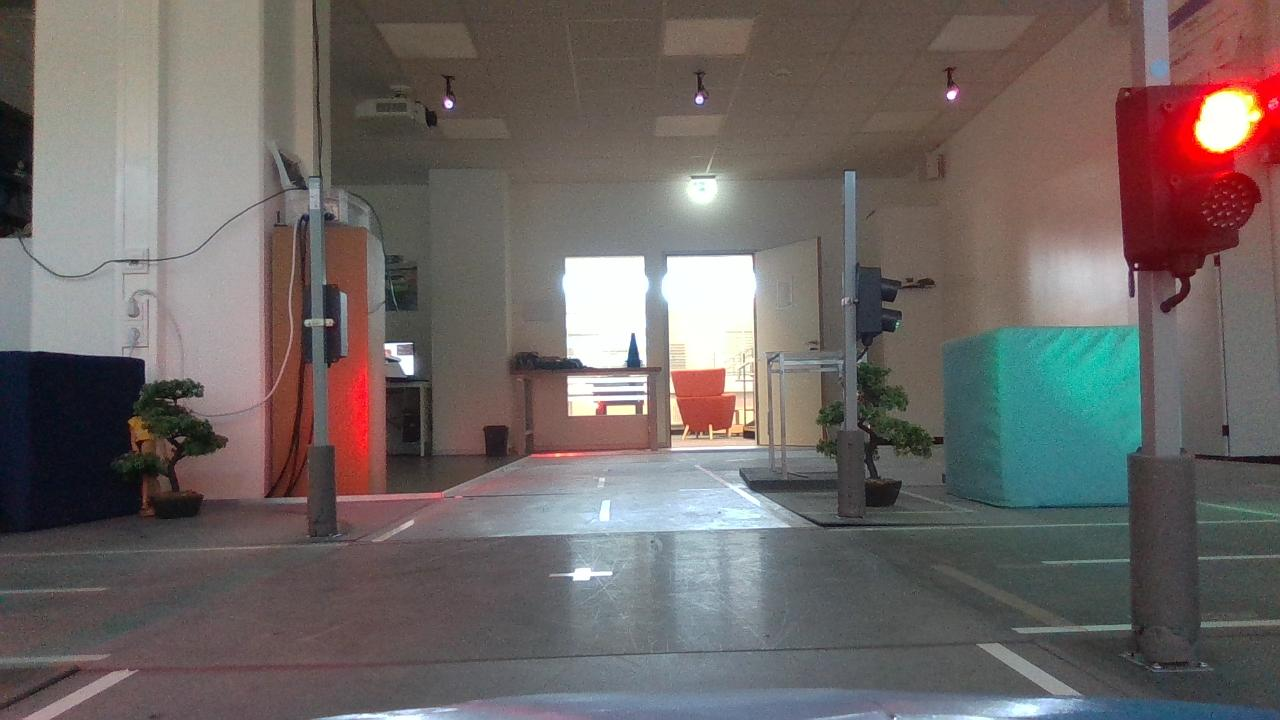traffic_light_red: (1107, 71, 1269, 287)
